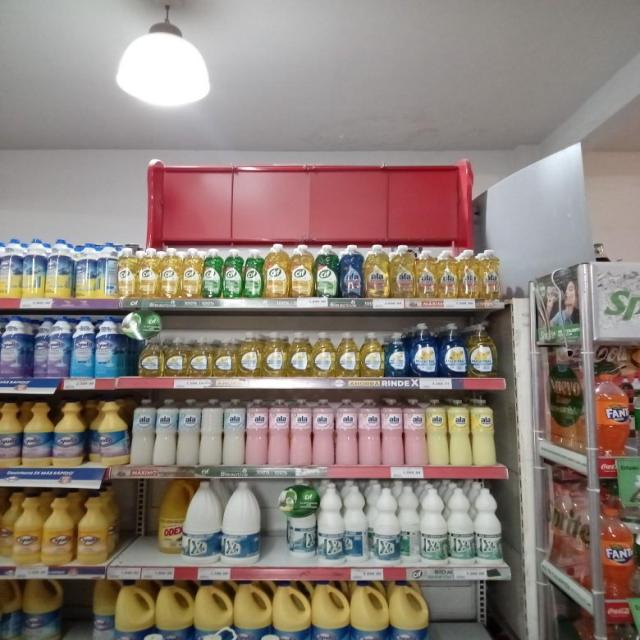ala_conc_amarillo: (364, 244, 389, 298), (390, 245, 415, 298), (479, 249, 502, 300), (416, 248, 437, 298), (438, 249, 458, 299), (459, 249, 478, 299)
ala_conc_azul: (339, 245, 363, 298)
ala_crem_amarillo: (472, 397, 497, 467), (449, 398, 471, 467), (427, 398, 448, 467)
ala_crem_blanco: (130, 398, 154, 467), (222, 399, 245, 466), (178, 398, 200, 467), (200, 398, 222, 467), (155, 398, 176, 467)
ala_crem_rosado: (358, 398, 381, 467), (404, 398, 426, 467), (336, 398, 358, 466), (290, 399, 312, 466), (246, 399, 268, 466), (382, 398, 403, 467), (313, 399, 334, 466), (269, 399, 289, 466)
cif_conc_bot_amarilla: (265, 244, 289, 298), (290, 244, 314, 298), (137, 248, 159, 298), (160, 248, 181, 298), (182, 248, 201, 298), (118, 247, 136, 298)
cif_conc_botella_verde: (314, 244, 338, 298), (202, 248, 222, 299), (243, 248, 263, 298), (223, 248, 242, 298)
cif_conc_sachet_verde: (630, 272, 640, 334)
heroe: (602, 534, 633, 600)
magistral_con_amarillo: (468, 322, 498, 378), (136, 336, 163, 377), (360, 332, 384, 378), (262, 332, 286, 378), (336, 332, 359, 378), (312, 332, 335, 378), (238, 333, 262, 377), (288, 332, 310, 378), (188, 338, 212, 378), (164, 336, 187, 377), (212, 338, 236, 377)
magistral_con_azul: (409, 322, 438, 378), (440, 322, 467, 378), (386, 332, 408, 377)
